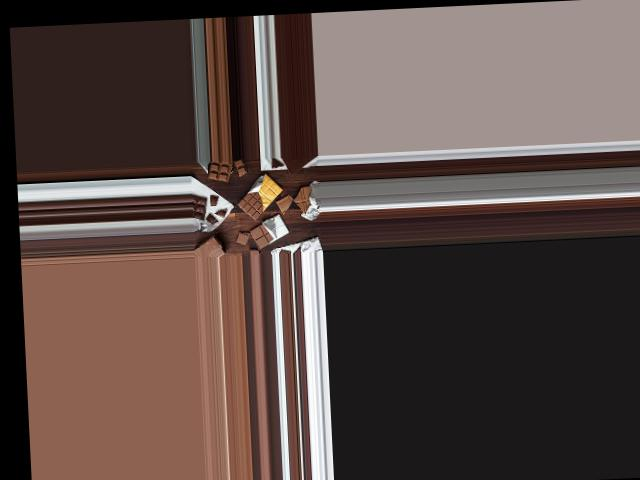chocolate: (249, 213, 287, 252)
